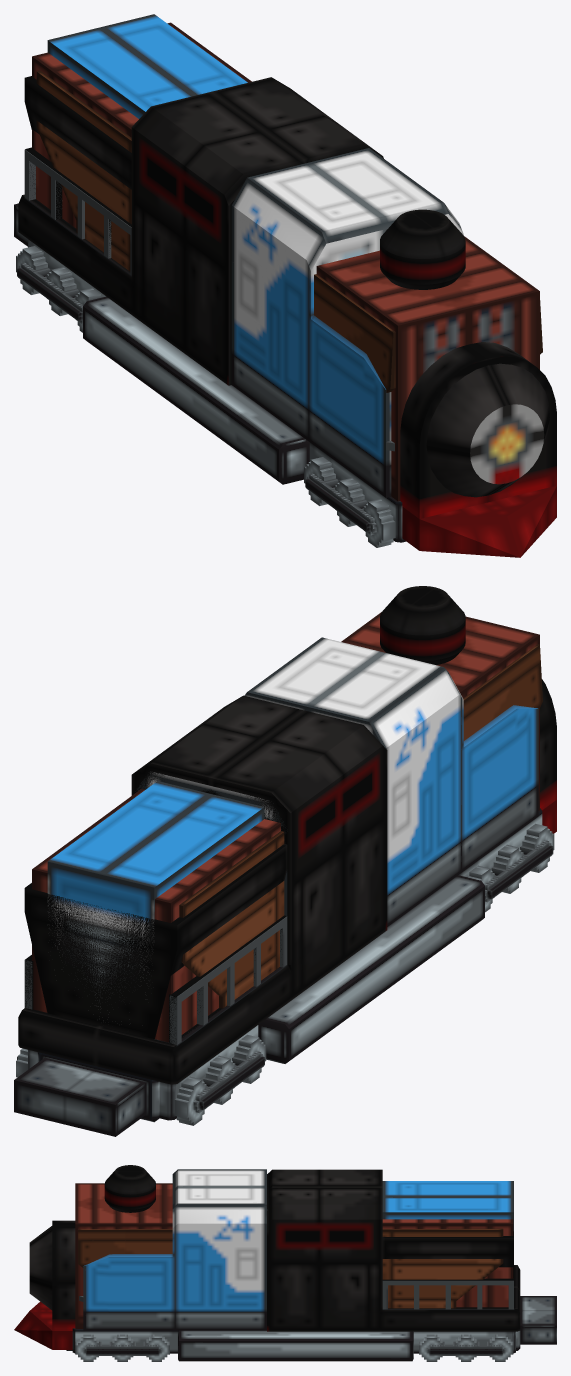
File: Trem.fbx
3 views of the same model, one above another, from view 1: azimuth 30°, elevation 25°; view 2: azimuth 150°, elevation 25°; view 3: azimuth 270°, elevation 25° (orthographic). The views are drawn at different scales.
Visible parts, largest first — view 1: TremVapor, TremEletrico, TremBase, TremContainer, TremGraos; view 2: TremVapor, TremEletrico, TremBase, TremContainer, TremGraos; view 3: TremVapor, TremEletrico, TremBase, TremGraos, TremContainer.
Boxes of the visible parts, x1,y1,x2,y2 form: TremVapor: (18, 76, 556, 557); TremEletrico: (24, 14, 463, 497); TremBase: (14, 203, 406, 547); TremContainer: (32, 22, 539, 501); TremGraos: (36, 70, 542, 392); TremVapor: (18, 586, 556, 1084); TremEletrico: (24, 637, 538, 1046); TremBase: (14, 808, 554, 1136); TremContainer: (32, 612, 539, 1042); TremGraos: (179, 644, 542, 1008); TremVapor: (14, 1165, 520, 1349); TremEletrico: (79, 1169, 514, 1330); TremBase: (66, 1296, 556, 1361); TremGraos: (78, 1228, 503, 1308); TremContainer: (75, 1183, 513, 1328).
Bounding box in the file's own units: 270 × 348 × 1034.
5 materials, 5 textured.
